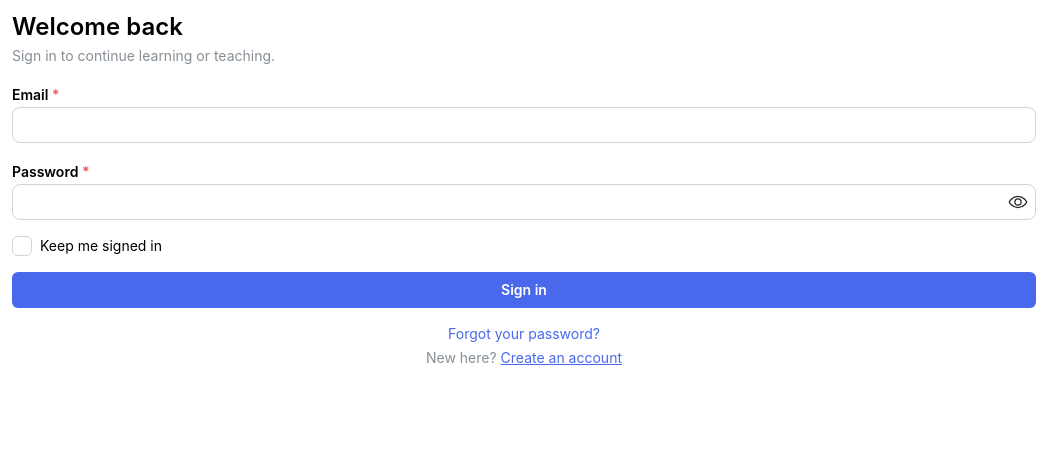
Test: LoginRoute › shows the server message for invalid credentials
Step 1. Type "ada@example.com" into the field labelled "Email *" → (524, 125), box [12,107,1036,143]
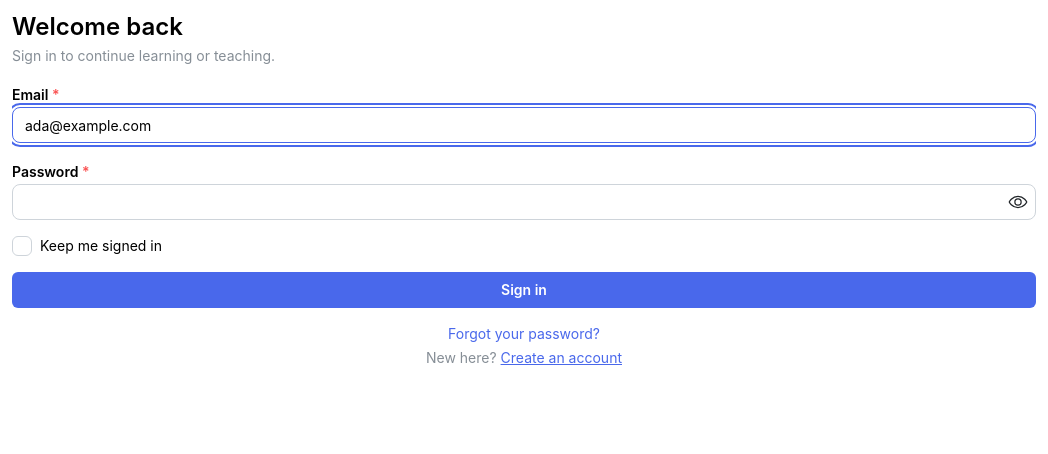
Step 2. Type "wrong-password" into the password field labelled "Password *" → (524, 202), box [13,185,1035,219]
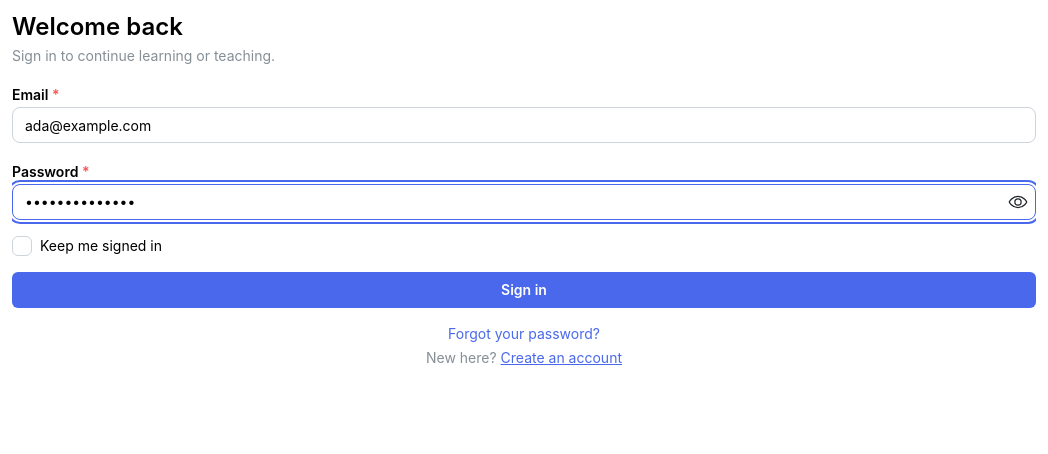
Step 3. Click the button "Sign in" → click(524, 290), box [12,272,1036,308]
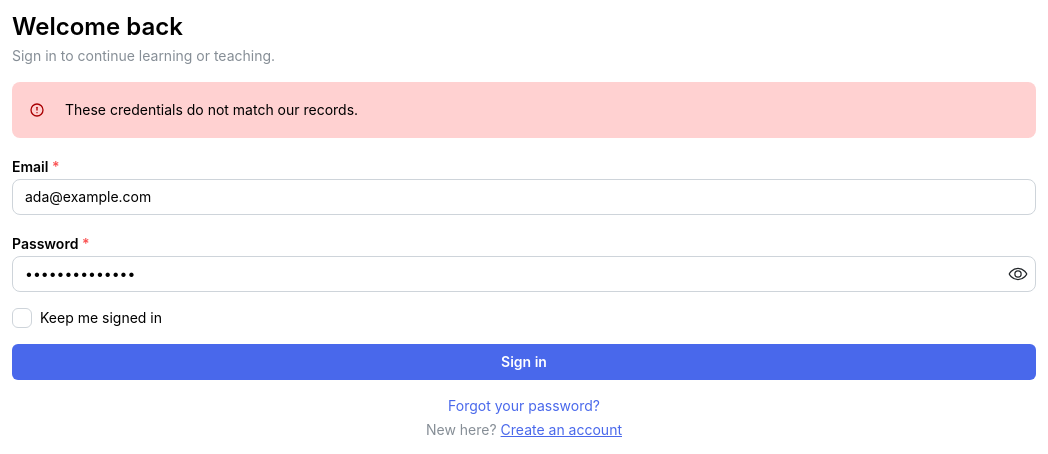
Check: the message shows "do not match our records", box [65,101,358,118]
